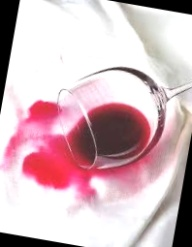wine: (19, 125, 151, 201), (4, 94, 66, 181)
